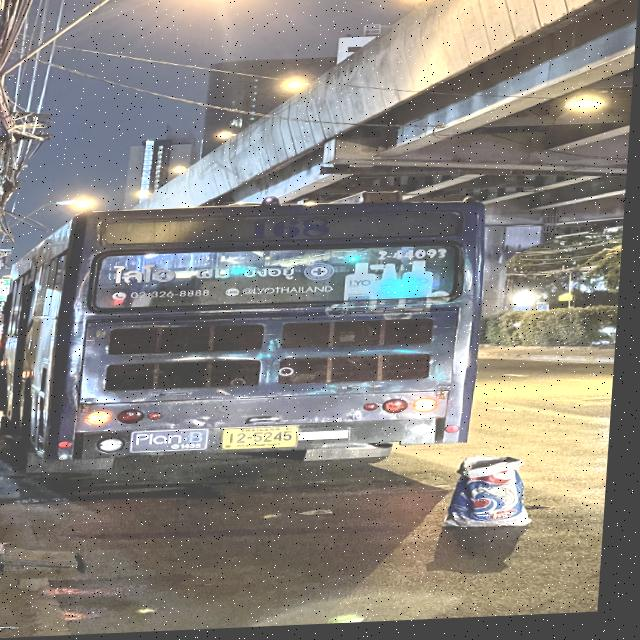BMTA-bus: (0, 186, 501, 487)
Bus-Line-Number: (240, 216, 356, 244)
